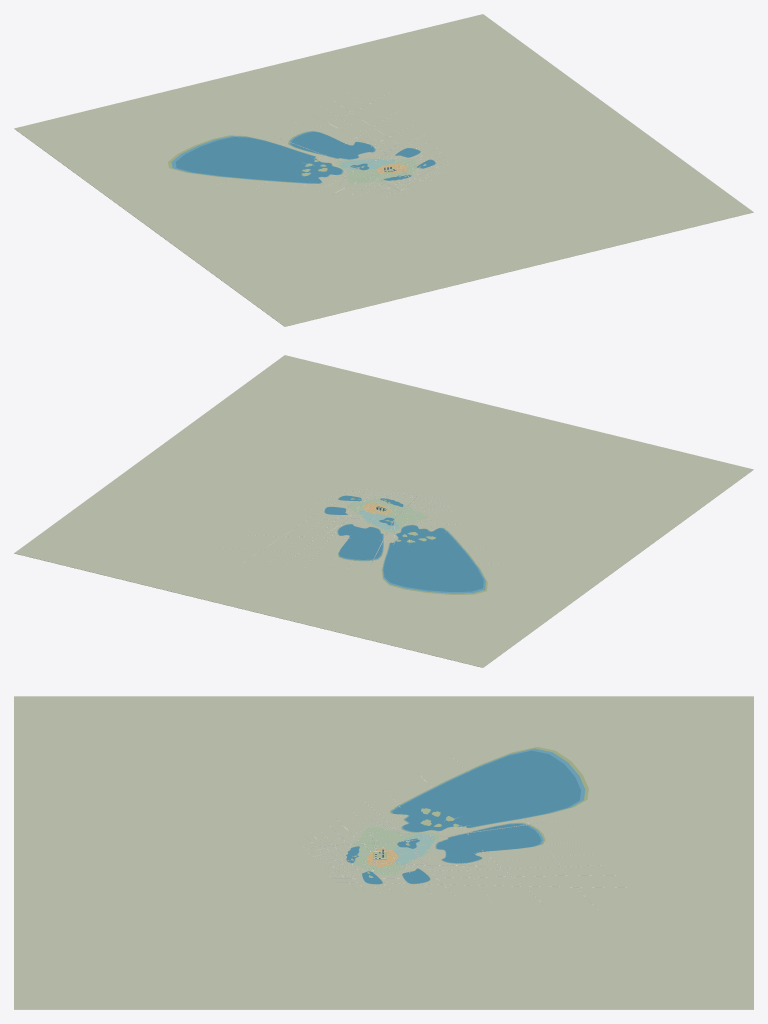
File: city-gray.glb
3 renders of one model, top to bottom at view 1: azimuth 30°, elevation 25°; view 2: azimuth 150°, elevation 25°; view 3: azimuth 270°, elevation 25°, orthographic. The views are drawn at different scales.
Parts seen in each view (by area): view 1: regional_terrain_ground, regional_terrain_waterDeep, regional_terrain_zoneGreen, regional_terrain_water, regional_roads_road, regional_terrain_shore; view 2: regional_terrain_ground, regional_terrain_waterDeep, regional_roads_road, regional_terrain_zoneGreen, regional_terrain_water, regional_terrain_shore; view 3: regional_terrain_ground, regional_terrain_waterDeep, regional_roads_road, regional_terrain_zoneGreen, regional_terrain_water, regional_terrain_shore, regional_terrain_zoneCyan, regional_roads_marking.
Boxes of the visible parts, x1=… form: regional_terrain_ground: x1=14, y1=14, x2=753, y2=326; regional_terrain_waterDeep: x1=175, y1=131, x2=435, y2=183; regional_terrain_zoneGreen: x1=334, y1=158, x2=418, y2=183; regional_terrain_water: x1=171, y1=131, x2=435, y2=183; regional_roads_road: x1=214, y1=94, x2=445, y2=196; regional_terrain_shore: x1=168, y1=130, x2=435, y2=183; regional_terrain_ground: x1=14, y1=355, x2=753, y2=667; regional_terrain_waterDeep: x1=325, y1=495, x2=483, y2=591; regional_roads_road: x1=224, y1=488, x2=501, y2=570; regional_terrain_zoneGreen: x1=346, y1=498, x2=428, y2=533; regional_terrain_water: x1=324, y1=495, x2=485, y2=593; regional_terrain_shore: x1=324, y1=497, x2=487, y2=594; regional_terrain_ground: x1=14, y1=696, x2=753, y2=1009; regional_terrain_waterDeep: x1=346, y1=750, x2=580, y2=883; regional_roads_road: x1=305, y1=755, x2=624, y2=908; regional_terrain_zoneGreen: x1=349, y1=826, x2=439, y2=875; regional_terrain_water: x1=346, y1=748, x2=585, y2=884; regional_terrain_shore: x1=346, y1=747, x2=588, y2=884; regional_terrain_zoneCyan: x1=393, y1=833, x2=434, y2=864; regional_roads_marking: x1=303, y1=758, x2=626, y2=908.
Size of the model in its own units: 24000 by 155 by 24000.
